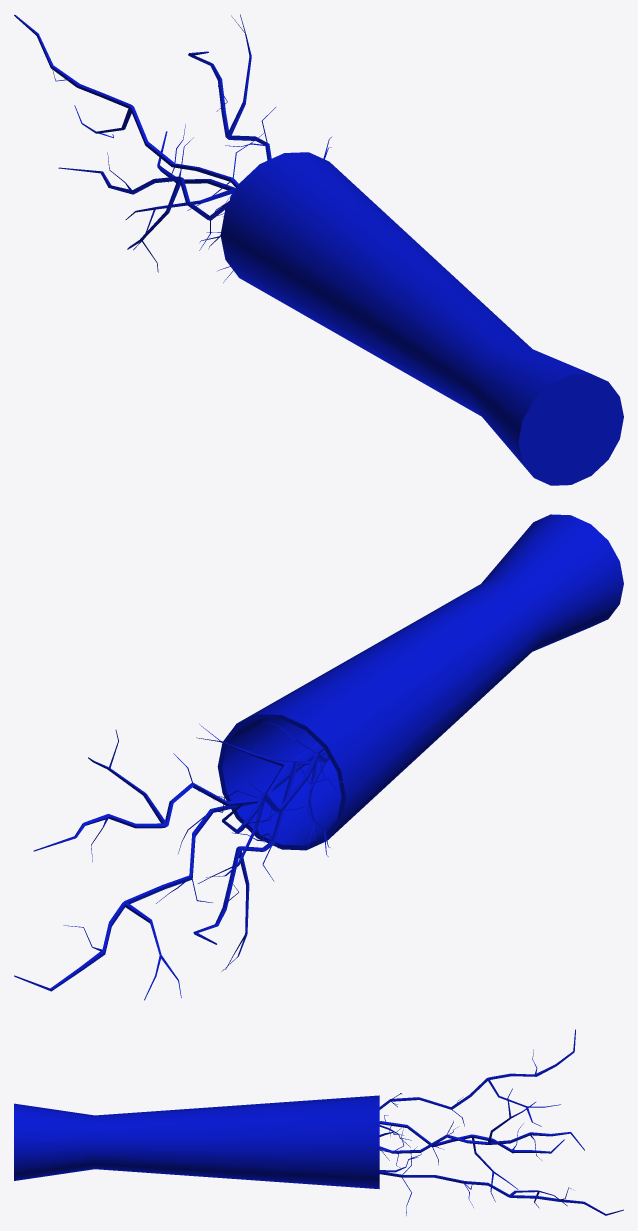
Rendered from vase_1.FBX.
The picture shows the model from 3 angles, top to bottom: view 1: azimuth 30°, elevation 25°; view 2: azimuth 150°, elevation 25°; view 3: azimuth 270°, elevation 25°; orthographic projection. The views are drawn at different scales.
Visible parts, largest first — view 1: branches; view 2: branches; view 3: branches.
Part boxes in pixels (<box>): branches: <box>14,14,623,485</box>; branches: <box>14,514,623,1000</box>; branches: <box>14,1029,623,1215</box>.
Size of the model in its own units: 15.85 by 17.75 by 64.97.
